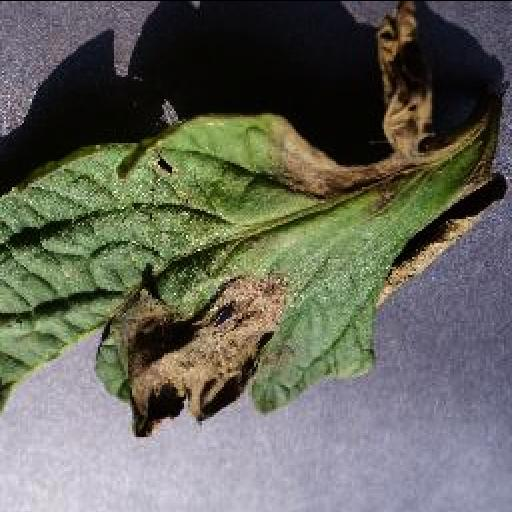disease_tomato: (0, 1, 508, 439)
